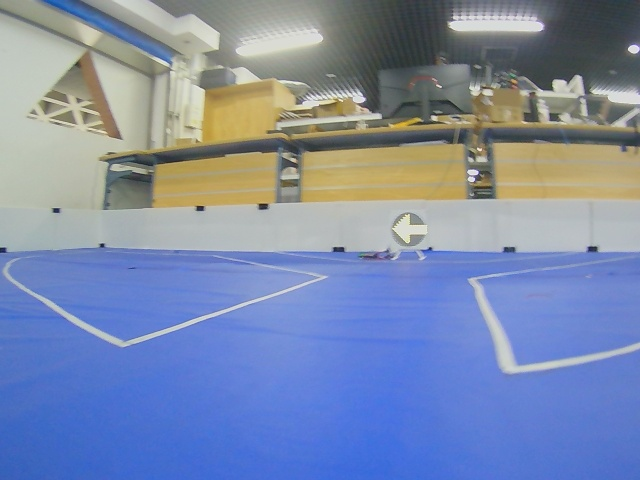left_yellow: (392, 213, 428, 247)
